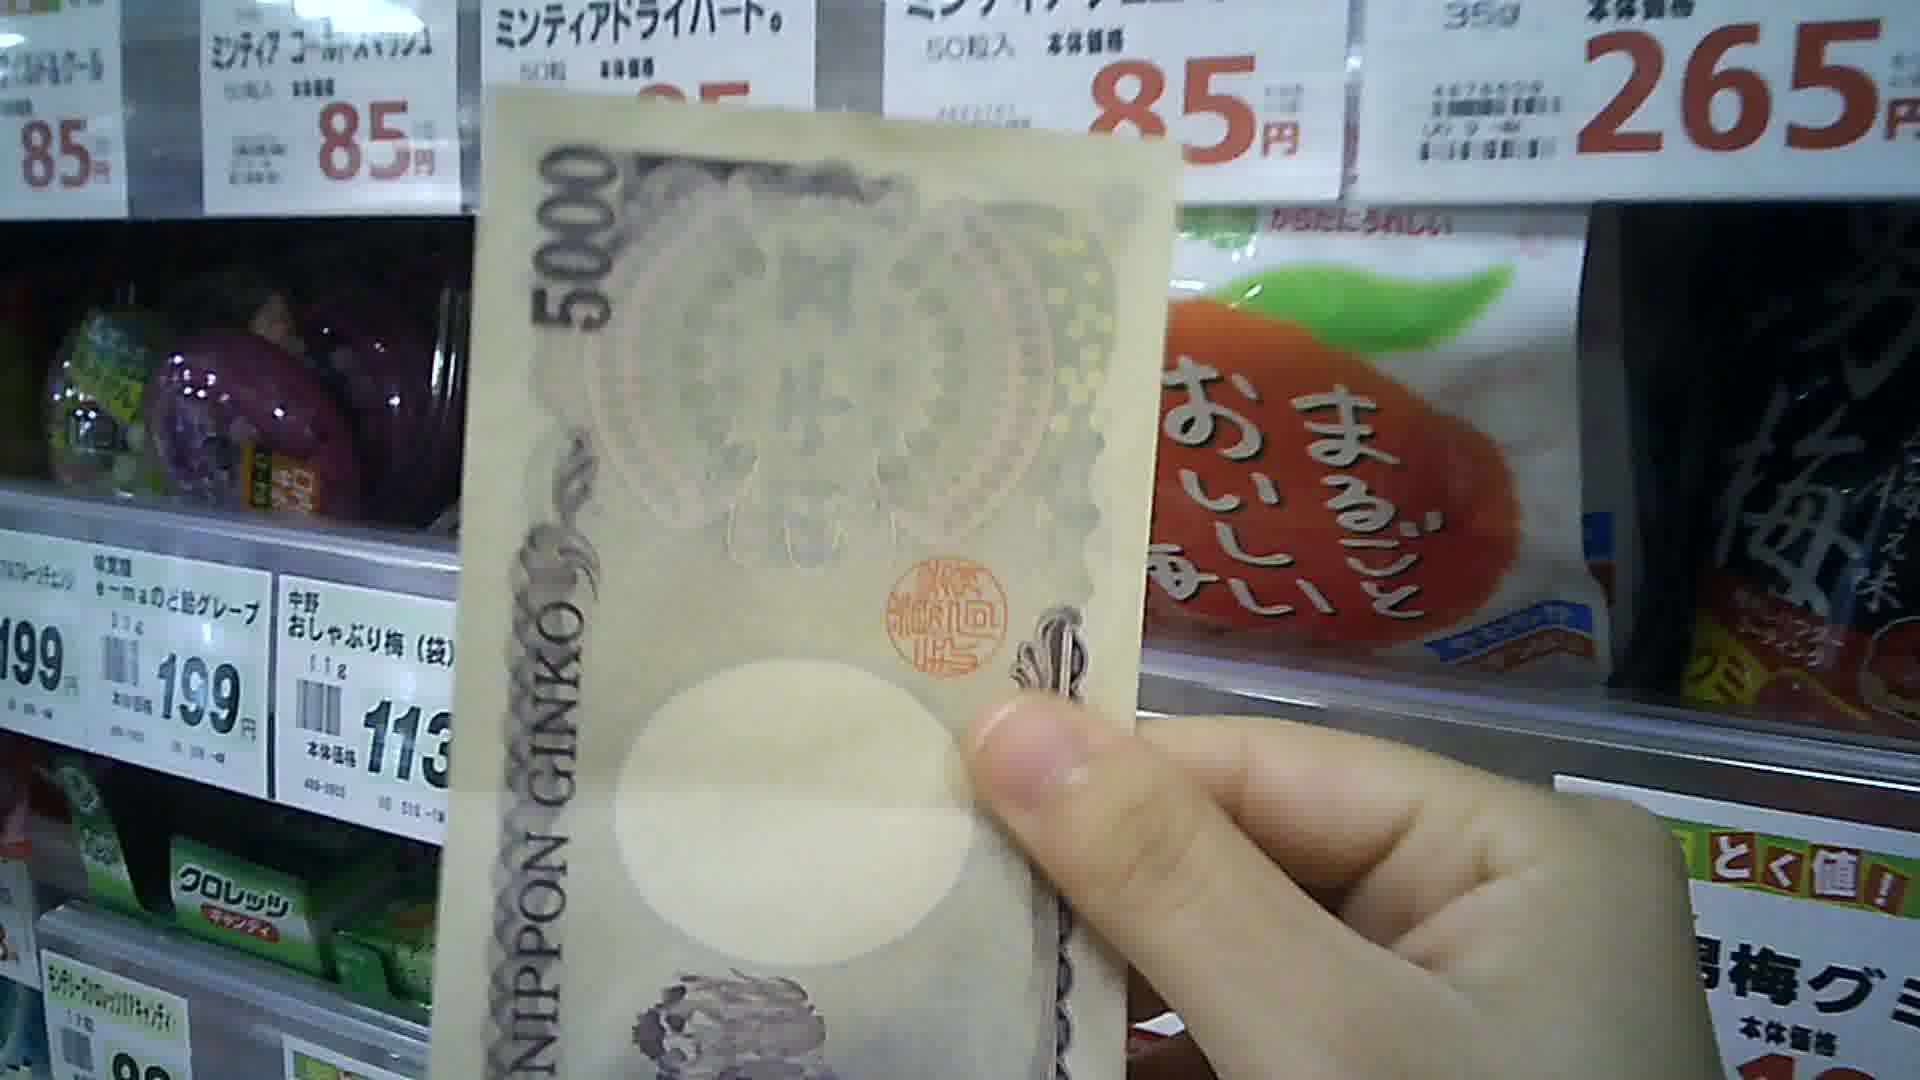5,000 Yen: (448, 76, 1159, 1079)
